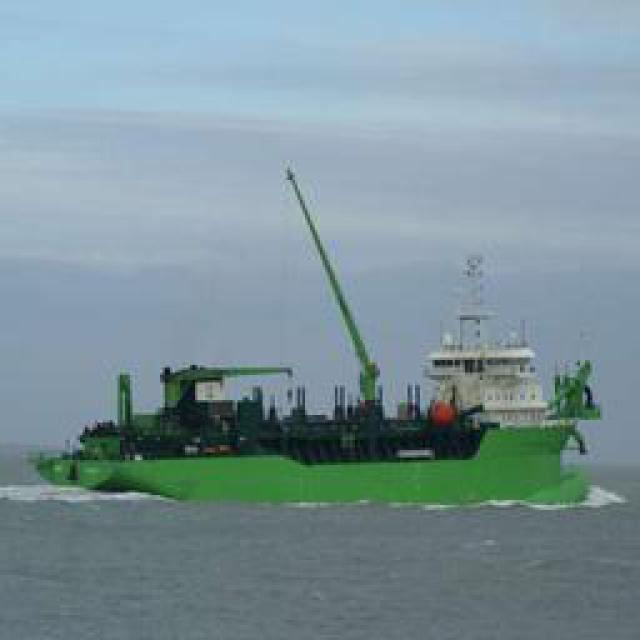Ship: (30, 256, 601, 508)
